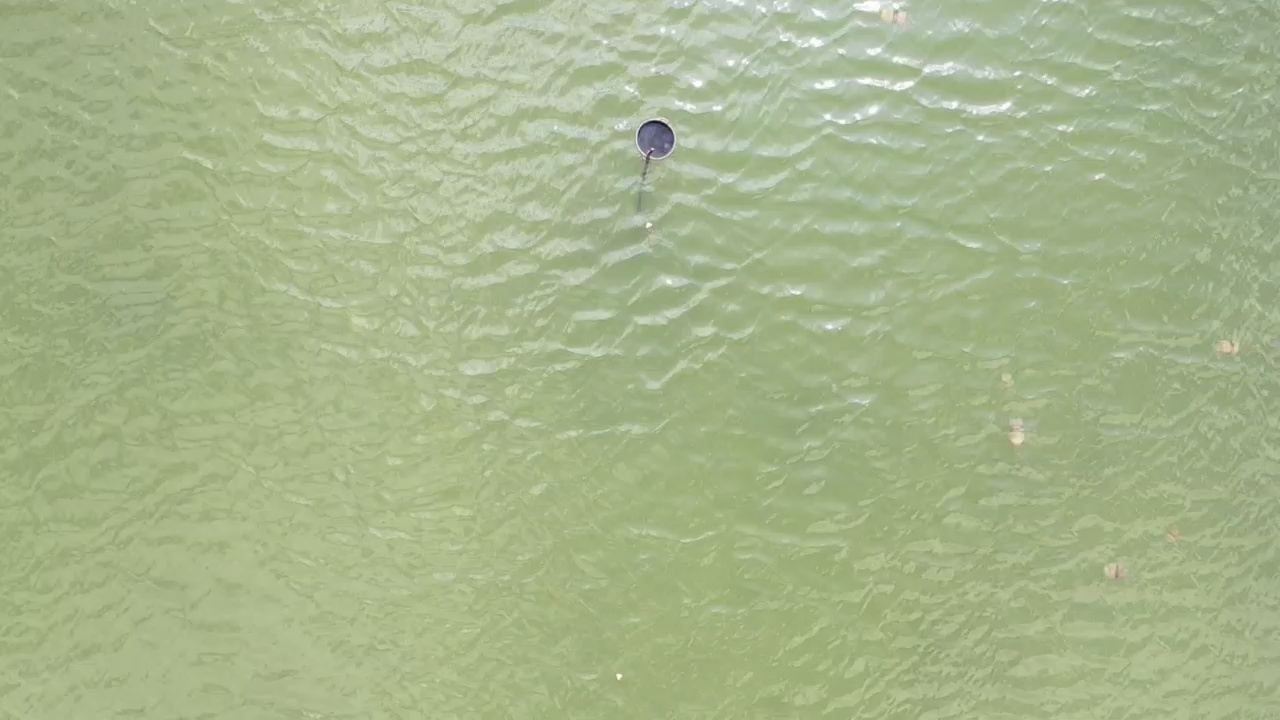meduse: (880, 7, 908, 28), (1009, 415, 1025, 446), (1104, 562, 1128, 582), (1215, 338, 1241, 356), (1164, 526, 1180, 543), (1003, 374, 1015, 388)
